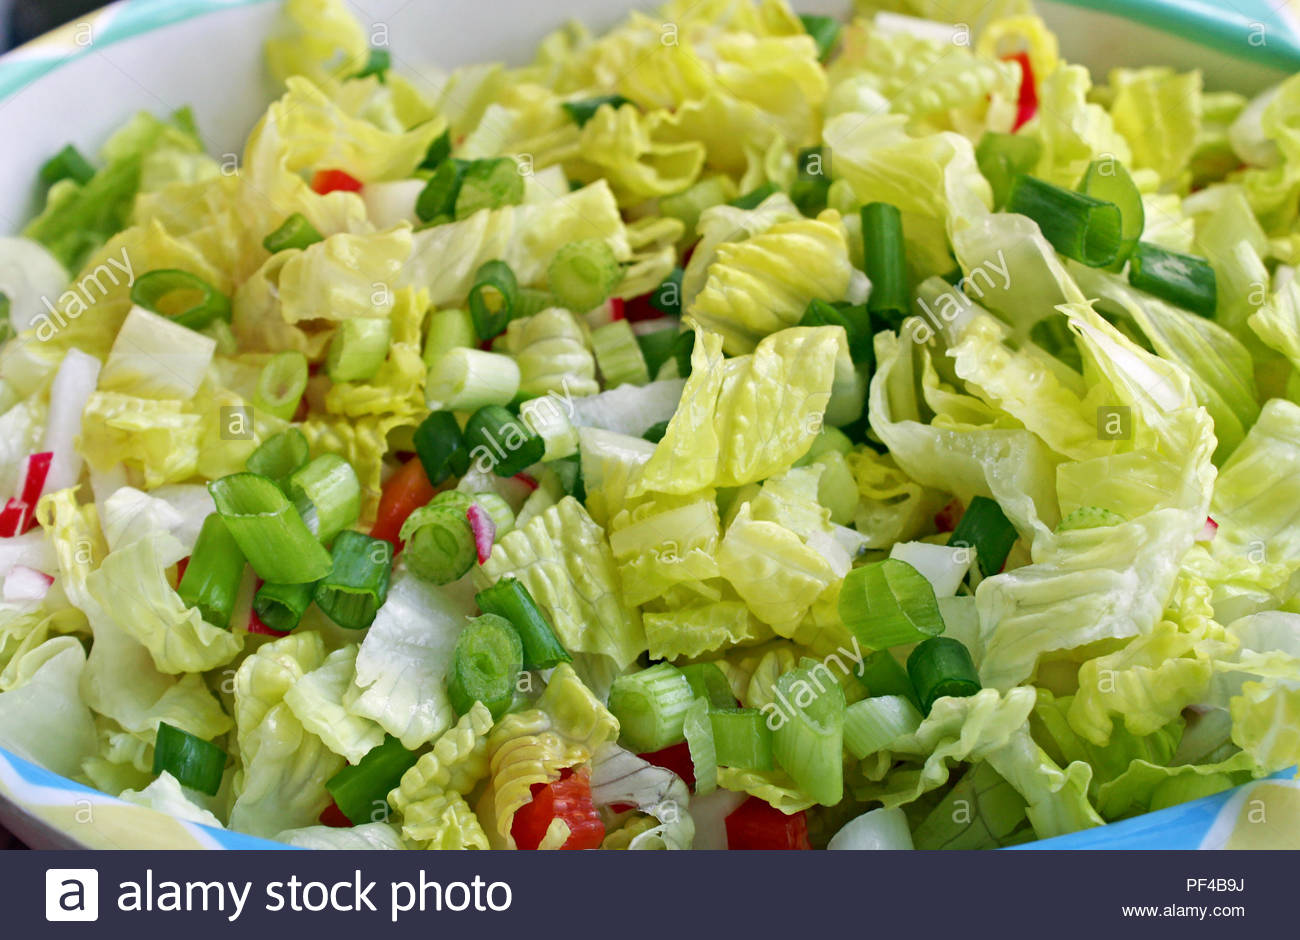chopped lettuce: (313, 217, 1253, 707)
